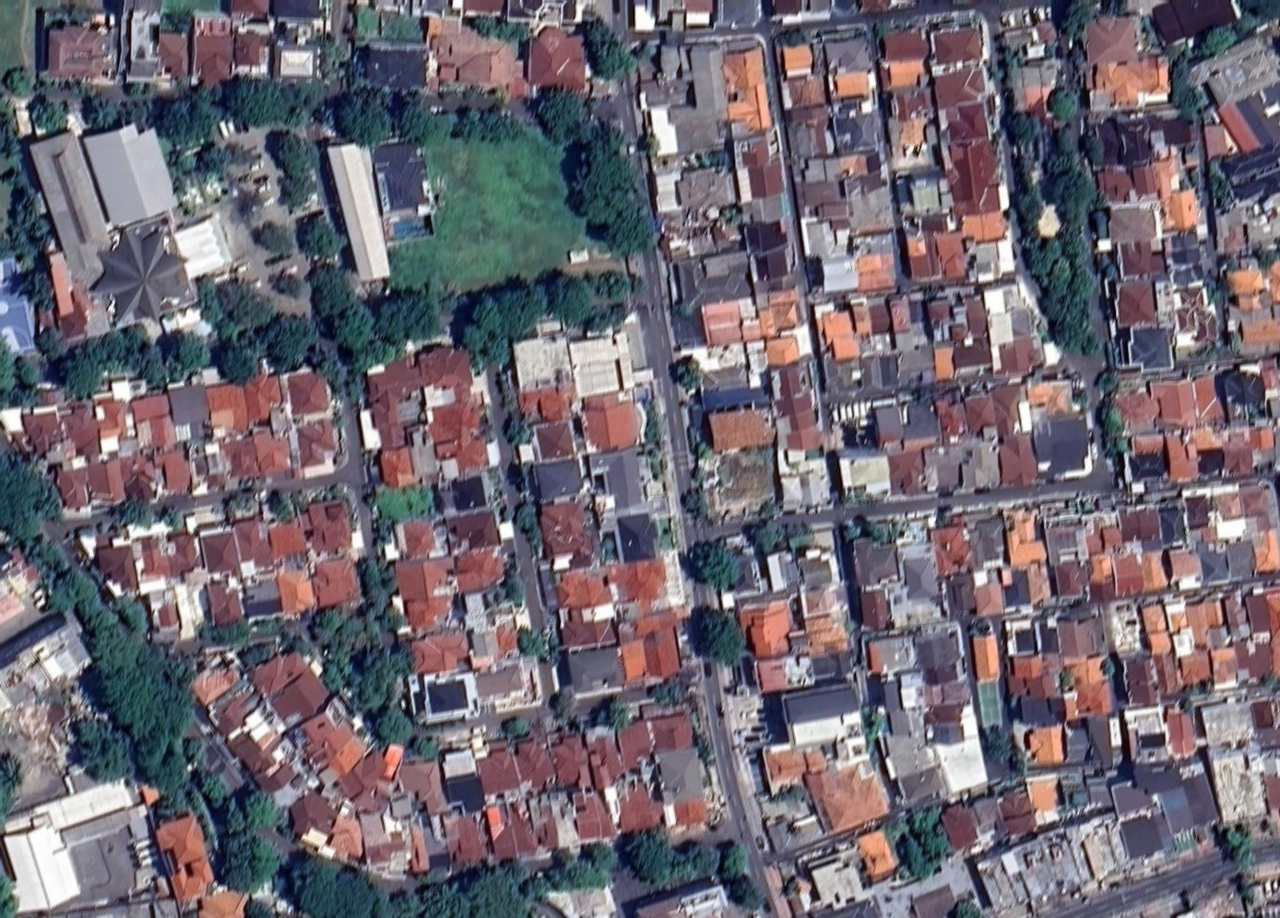building: (541, 546, 699, 692), (966, 805, 1137, 918), (339, 316, 476, 453), (73, 210, 202, 339), (26, 126, 123, 289), (198, 672, 314, 798), (649, 148, 748, 276), (875, 696, 988, 807), (0, 609, 101, 726), (80, 114, 179, 230), (412, 337, 493, 475), (325, 136, 392, 283), (244, 635, 340, 732), (793, 148, 893, 235), (367, 133, 443, 245), (16, 772, 140, 840), (60, 809, 146, 907), (802, 748, 893, 837), (1187, 27, 1280, 113), (0, 817, 82, 914), (288, 696, 374, 786), (423, 16, 523, 92), (507, 329, 581, 430), (801, 214, 896, 292), (869, 852, 981, 918), (793, 543, 853, 659), (151, 808, 221, 904), (923, 702, 994, 796), (44, 243, 111, 342), (646, 79, 731, 157), (778, 675, 867, 749), (792, 843, 876, 918), (332, 739, 408, 817), (764, 357, 825, 453), (689, 335, 766, 410), (201, 369, 287, 436), (1150, 760, 1223, 837), (671, 245, 756, 311), (981, 279, 1041, 371), (703, 445, 776, 518), (1213, 85, 1280, 164), (534, 494, 598, 574), (460, 582, 523, 662), (1206, 745, 1269, 825), (139, 572, 207, 645), (0, 548, 50, 647), (1088, 51, 1173, 109), (719, 42, 772, 134), (822, 350, 915, 401), (566, 329, 635, 397), (1031, 404, 1093, 477), (1210, 192, 1280, 256), (553, 639, 626, 700), (946, 136, 1002, 215), (170, 212, 236, 279), (1193, 688, 1261, 753), (524, 24, 590, 90), (579, 388, 646, 453), (1147, 0, 1239, 46), (358, 805, 416, 875), (1148, 373, 1220, 429), (730, 131, 787, 201), (630, 878, 732, 917), (509, 330, 574, 391), (742, 215, 798, 285), (737, 597, 799, 660), (775, 444, 832, 512), (435, 742, 487, 816), (354, 38, 429, 89), (406, 669, 479, 721), (203, 677, 266, 737), (617, 623, 682, 681), (905, 219, 966, 280), (394, 752, 449, 819), (705, 400, 774, 453), (1216, 146, 1280, 203), (1122, 701, 1175, 769), (1115, 806, 1176, 863), (608, 554, 671, 609), (697, 294, 761, 348), (655, 742, 709, 806), (912, 623, 967, 685), (484, 797, 538, 860), (687, 42, 730, 121), (597, 445, 649, 510), (1087, 115, 1152, 166), (47, 22, 107, 77), (812, 297, 862, 363), (507, 728, 558, 792), (579, 721, 627, 789), (407, 626, 472, 676), (1065, 653, 1115, 718), (307, 548, 361, 608), (470, 737, 523, 798), (841, 174, 896, 232), (185, 652, 243, 707), (439, 805, 491, 866), (546, 725, 594, 791), (555, 601, 619, 650), (1007, 56, 1064, 111), (280, 784, 338, 838), (998, 505, 1047, 568), (1052, 608, 1108, 663), (1171, 283, 1219, 347), (639, 47, 690, 107), (751, 285, 806, 340), (1112, 323, 1175, 371), (304, 494, 355, 553), (896, 537, 941, 603), (997, 7, 1054, 59), (451, 543, 508, 594), (192, 11, 232, 83), (852, 824, 900, 884), (674, 163, 735, 210), (1247, 587, 1279, 676), (931, 59, 989, 108), (0, 574, 41, 643), (568, 785, 616, 843), (59, 399, 106, 458), (850, 532, 900, 587), (189, 435, 237, 492), (760, 738, 811, 791), (282, 364, 332, 418), (929, 516, 974, 576), (523, 791, 567, 852), (929, 18, 986, 65), (698, 374, 769, 411), (321, 803, 365, 862), (862, 629, 917, 676), (445, 507, 501, 553), (50, 454, 94, 512), (965, 235, 1018, 283), (1084, 14, 1137, 62), (993, 782, 1039, 837), (937, 796, 982, 852), (995, 430, 1039, 487), (754, 651, 815, 692), (553, 566, 611, 609), (895, 394, 942, 447), (19, 401, 66, 454), (236, 569, 283, 622), (196, 522, 241, 577), (1111, 380, 1161, 429), (126, 9, 160, 81), (820, 26, 872, 73), (531, 455, 585, 500), (612, 715, 657, 769), (394, 556, 450, 599), (1107, 772, 1157, 820), (833, 101, 879, 153), (939, 98, 991, 144), (783, 70, 828, 123), (231, 513, 273, 569), (647, 705, 695, 754), (1237, 477, 1279, 532), (1106, 202, 1162, 243), (925, 292, 969, 344), (417, 343, 470, 386), (295, 416, 338, 469), (698, 298, 745, 346), (839, 452, 890, 496), (618, 780, 662, 831), (251, 425, 294, 477), (274, 562, 316, 615), (641, 625, 682, 679), (1043, 516, 1089, 564), (1024, 374, 1075, 417), (958, 438, 1001, 489), (1216, 365, 1267, 408), (1165, 228, 1204, 284), (153, 443, 195, 495), (472, 661, 526, 701), (786, 116, 835, 160), (615, 511, 657, 562), (467, 622, 518, 664), (95, 538, 136, 590), (967, 515, 1007, 568), (1194, 115, 1238, 163), (166, 379, 210, 427), (794, 543, 838, 591), (85, 454, 126, 505), (203, 575, 244, 626), (803, 611, 850, 655), (421, 674, 470, 716), (1092, 160, 1136, 206), (993, 335, 1042, 376), (232, 21, 269, 75), (1162, 702, 1197, 759), (265, 516, 308, 562), (922, 443, 964, 490), (221, 433, 262, 481), (886, 82, 934, 122), (402, 594, 451, 633), (959, 207, 1009, 245), (1132, 758, 1183, 795), (878, 24, 928, 61), (532, 418, 575, 461), (1009, 654, 1053, 696), (1235, 307, 1280, 348), (375, 443, 416, 488), (1012, 693, 1063, 729), (1122, 654, 1158, 705), (908, 883, 960, 918), (1161, 228, 1204, 270), (1158, 188, 1200, 231), (1023, 723, 1066, 765), (1118, 240, 1166, 277), (395, 516, 437, 558), (560, 658, 600, 702), (745, 157, 786, 199), (1117, 280, 1156, 324), (968, 630, 1001, 682), (1233, 637, 1272, 681), (966, 790, 1005, 834), (1164, 431, 1198, 481), (1110, 549, 1146, 596), (1195, 537, 1231, 584), (451, 433, 492, 474), (871, 399, 905, 448), (166, 528, 202, 574), (888, 447, 923, 494), (780, 320, 820, 361), (1186, 600, 1222, 645), (990, 382, 1021, 434), (818, 252, 858, 292), (855, 251, 895, 291), (1117, 505, 1160, 542), (1086, 713, 1115, 767), (1150, 650, 1184, 696), (661, 548, 687, 608), (1224, 262, 1266, 299), (857, 585, 891, 630), (1220, 590, 1251, 639), (950, 335, 992, 371), (1052, 557, 1088, 599), (774, 0, 837, 24), (158, 27, 188, 77), (962, 388, 996, 432), (1155, 500, 1188, 545), (896, 343, 934, 382), (1176, 646, 1213, 686), (908, 172, 943, 214), (129, 388, 171, 423), (197, 888, 247, 917), (449, 473, 487, 511), (1158, 112, 1197, 149), (1025, 774, 1062, 813), (1150, 155, 1181, 201), (800, 175, 844, 207), (273, 43, 314, 77), (1166, 544, 1202, 582), (890, 321, 929, 356), (1208, 644, 1239, 688), (971, 577, 1005, 617), (1224, 537, 1256, 579), (763, 332, 801, 367), (1127, 448, 1166, 482), (1182, 491, 1216, 530), (893, 116, 926, 156), (669, 795, 709, 828), (1251, 527, 1280, 572), (138, 535, 169, 577), (367, 363, 398, 404), (962, 291, 988, 339), (831, 67, 871, 98), (780, 41, 815, 76), (1000, 567, 1030, 607), (1249, 695, 1280, 733), (717, 0, 762, 26), (758, 551, 786, 592), (885, 59, 924, 88), (97, 398, 125, 438), (269, 0, 321, 21), (408, 818, 428, 871), (1138, 600, 1168, 635), (1141, 550, 1167, 590), (1063, 722, 1090, 760), (600, 783, 625, 824), (887, 294, 912, 333), (879, 676, 905, 713), (709, 219, 740, 250), (1223, 441, 1252, 474), (147, 414, 176, 447), (1129, 163, 1157, 197), (516, 0, 565, 19), (124, 471, 154, 502), (1007, 622, 1036, 654), (867, 296, 891, 333), (1036, 618, 1060, 655), (221, 0, 268, 17), (629, 0, 655, 30), (1098, 521, 1123, 551), (1262, 773, 1279, 817), (1011, 653, 1042, 677), (814, 200, 849, 221), (0, 405, 24, 435), (1247, 425, 1274, 450), (1194, 425, 1222, 449), (1146, 629, 1171, 654), (1266, 258, 1279, 302), (803, 158, 825, 181), (771, 0, 802, 15), (856, 0, 891, 11), (2, 634, 24, 649), (695, 48, 709, 71), (831, 0, 858, 10)
tree: (92, 633, 215, 757), (40, 563, 143, 676), (182, 254, 278, 351), (559, 117, 643, 227), (271, 846, 382, 918), (58, 701, 143, 792), (418, 859, 545, 917), (208, 821, 290, 899), (148, 77, 236, 149), (680, 593, 755, 675), (1032, 154, 1106, 230), (530, 75, 605, 148), (0, 451, 61, 540), (124, 726, 196, 797), (0, 165, 51, 263), (674, 530, 752, 593), (618, 825, 691, 892), (532, 262, 603, 330), (342, 645, 415, 709), (596, 196, 664, 263), (577, 12, 641, 83), (327, 86, 398, 150), (375, 291, 457, 346), (270, 125, 323, 208), (383, 86, 450, 151), (490, 271, 552, 337), (229, 73, 305, 124), (326, 295, 386, 355), (159, 321, 218, 378), (1046, 295, 1103, 353), (209, 330, 268, 386), (124, 319, 169, 388), (0, 332, 42, 405), (83, 324, 138, 379), (260, 312, 312, 370), (551, 844, 615, 890), (110, 589, 160, 647), (461, 6, 533, 46), (54, 345, 107, 399), (19, 527, 71, 582), (23, 88, 76, 140), (1018, 228, 1069, 282), (234, 780, 285, 834), (457, 106, 527, 145), (322, 608, 370, 664), (354, 552, 401, 607), (75, 82, 125, 133), (889, 828, 936, 882), (678, 830, 727, 880), (360, 595, 410, 643), (310, 262, 354, 316), (366, 702, 419, 746), (1054, 264, 1105, 309), (313, 349, 358, 400), (465, 290, 512, 338), (302, 210, 348, 259), (741, 509, 789, 555), (723, 870, 773, 914), (711, 838, 756, 885), (1053, 0, 1103, 42), (1168, 49, 1198, 119), (1054, 224, 1100, 269), (1192, 18, 1240, 61), (347, 334, 405, 369), (915, 822, 958, 869), (152, 778, 201, 819), (305, 603, 350, 647), (1015, 187, 1048, 246), (105, 491, 156, 529), (1042, 80, 1086, 124), (586, 267, 645, 299), (665, 350, 708, 393), (594, 693, 637, 736), (679, 481, 721, 525), (15, 264, 60, 305), (8, 347, 51, 388), (1043, 253, 1081, 297), (195, 764, 233, 807), (251, 219, 297, 254), (1005, 105, 1045, 145), (981, 720, 1015, 765), (0, 110, 26, 168), (1223, 825, 1258, 868), (906, 799, 947, 834), (311, 30, 346, 71), (375, 885, 421, 916), (583, 302, 631, 331), (2, 754, 26, 811), (770, 778, 810, 812), (198, 139, 235, 175), (199, 621, 254, 645), (1203, 167, 1234, 209), (501, 411, 537, 447), (457, 315, 493, 351), (1096, 400, 1129, 438), (269, 270, 308, 302), (514, 501, 543, 544), (276, 626, 316, 657), (477, 332, 513, 366), (513, 625, 549, 657), (0, 63, 37, 94), (1092, 363, 1125, 397), (262, 485, 295, 519), (858, 513, 893, 545), (549, 685, 582, 718), (315, 657, 348, 690), (125, 71, 158, 104), (860, 702, 887, 741), (239, 639, 277, 666), (341, 56, 368, 94), (641, 396, 663, 442), (643, 445, 670, 482), (1038, 291, 1070, 322), (219, 797, 249, 829), (511, 457, 540, 490), (500, 568, 527, 603), (646, 679, 683, 704), (1046, 145, 1081, 171), (1076, 329, 1106, 359), (705, 138, 735, 168), (1016, 154, 1041, 189), (1232, 876, 1261, 906), (1161, 33, 1192, 61), (341, 372, 369, 402), (1005, 744, 1031, 776), (254, 611, 287, 636), (1238, 0, 1279, 20), (1192, 339, 1222, 364), (1200, 273, 1224, 304), (1215, 249, 1242, 276), (1233, 8, 1261, 34), (502, 713, 532, 736), (778, 25, 812, 45), (717, 202, 744, 227), (757, 494, 782, 520), (160, 503, 185, 529), (156, 10, 190, 29), (196, 809, 215, 842), (1190, 84, 1214, 110), (246, 895, 275, 916), (306, 81, 325, 113), (1139, 15, 1159, 45), (410, 737, 439, 757), (949, 899, 983, 916), (1067, 41, 1091, 65), (687, 463, 712, 486), (688, 438, 715, 459), (374, 517, 394, 545), (1054, 122, 1076, 147), (1071, 385, 1093, 409), (1082, 134, 1104, 157), (984, 59, 1007, 81), (599, 536, 619, 561), (886, 513, 907, 536), (1003, 50, 1026, 70), (1100, 0, 1130, 15), (841, 521, 862, 540), (1185, 679, 1204, 699), (695, 741, 714, 760), (305, 317, 319, 342), (1104, 437, 1119, 460), (1179, 696, 1198, 714), (1260, 671, 1279, 689), (1112, 433, 1131, 451), (636, 41, 658, 56), (1226, 331, 1241, 351), (922, 282, 939, 299), (500, 503, 517, 520), (1058, 667, 1071, 689), (490, 89, 510, 103), (1100, 657, 1116, 674), (1043, 40, 1059, 57), (464, 87, 481, 100), (1074, 592, 1089, 606), (440, 87, 456, 99), (782, 882, 794, 897)
